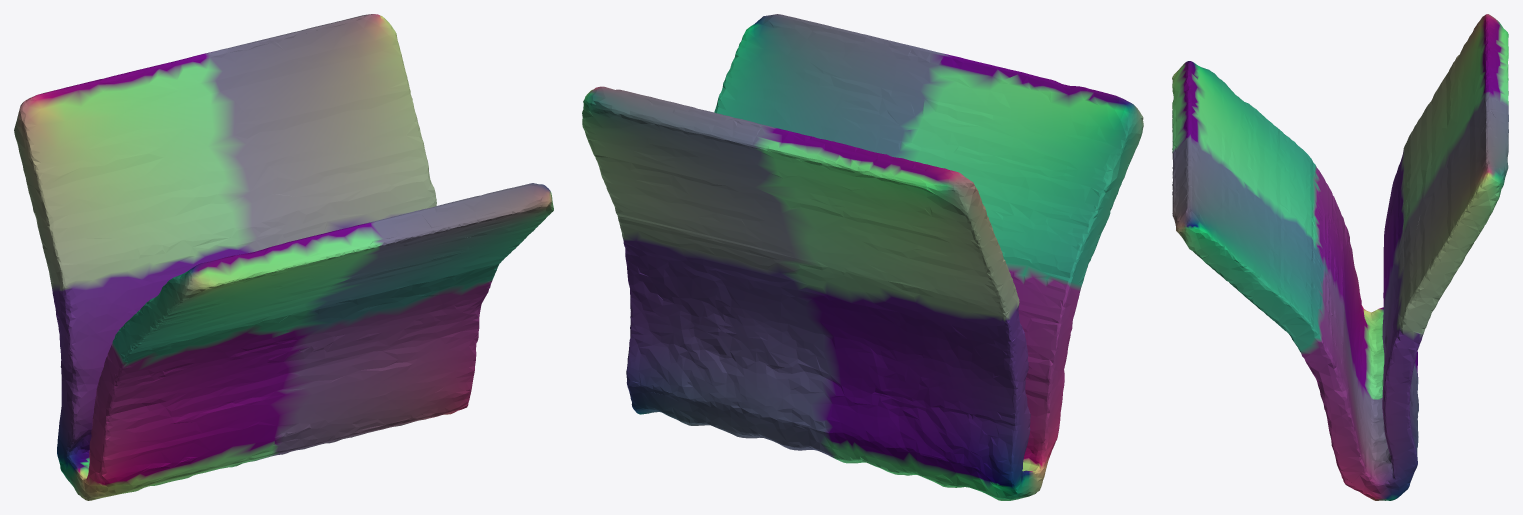
File: paper-1.off.obj
3 renders of one model, left to right at view 1: azimuth 30°, elevation 25°; view 2: azimuth 150°, elevation 25°; view 3: azimuth 270°, elevation 25°, orthographic. The views are drawn at different scales.
Bounding box in the file's own units: 1.2 × 1.1 × 1.02.
